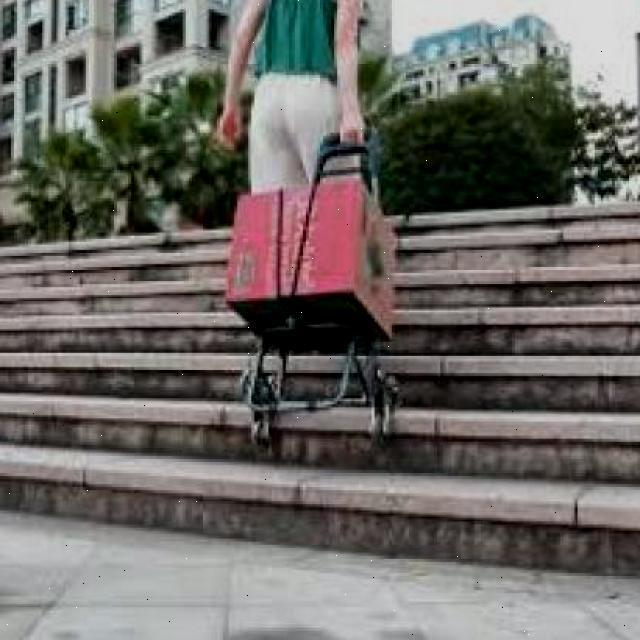stair: (37, 290, 481, 545)
